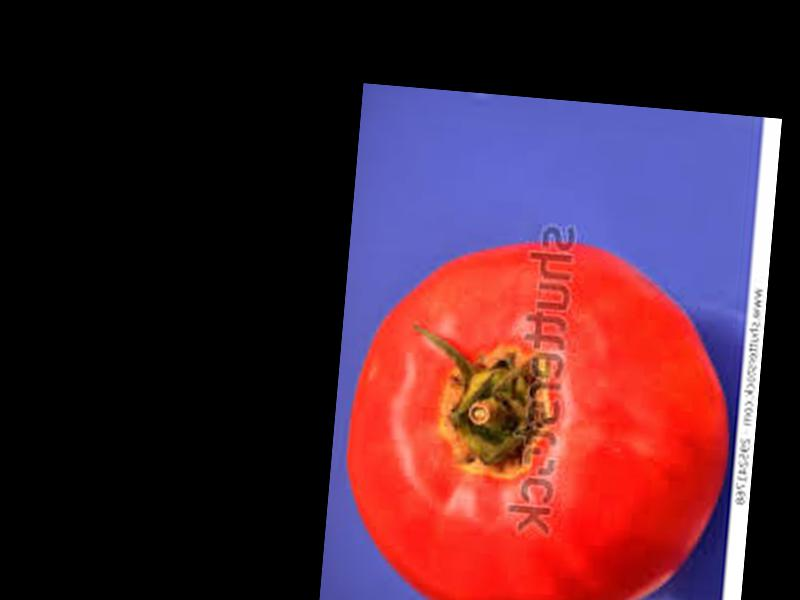Tomato: (333, 225, 736, 600)
